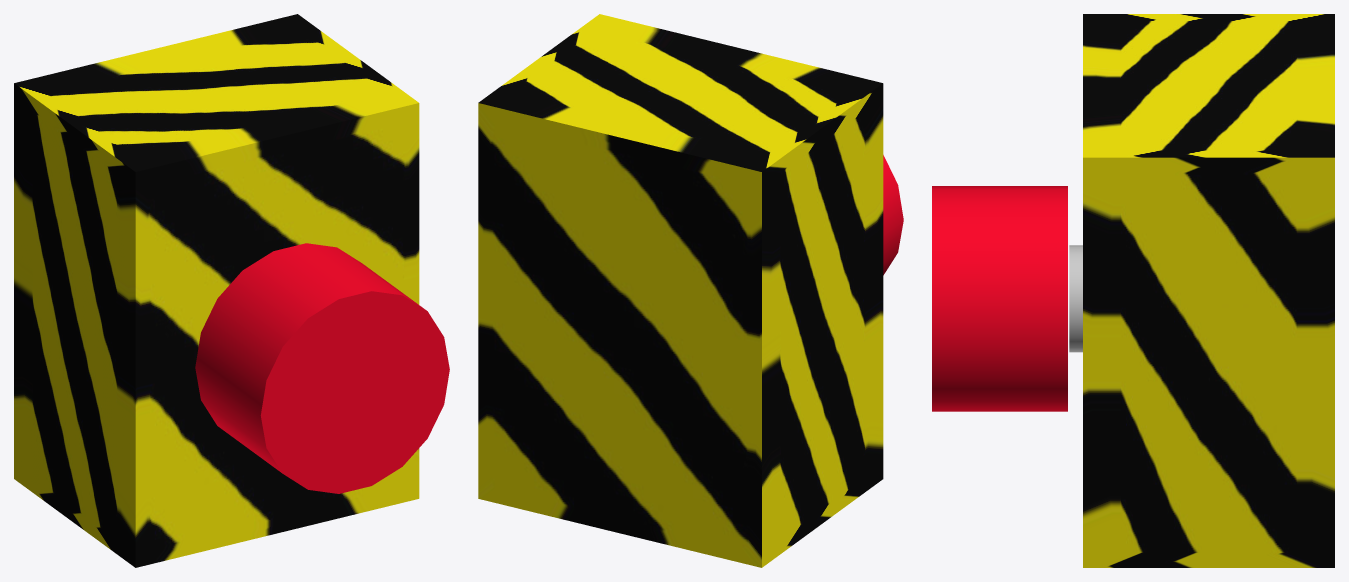
Rendered from Laser Switch.FBX.
The picture shows the model from 3 angles, left to right: view 1: azimuth 30°, elevation 25°; view 2: azimuth 150°, elevation 25°; view 3: azimuth 270°, elevation 25°; orthographic projection. The views are drawn at different scales.
Visible parts, largest first — view 1: Cylinder002; view 2: Cylinder002; view 3: Cylinder002.
Part boxes in pixels (box(x1,y1,x2,y2)): Cylinder002: box(14, 14, 449, 567); Cylinder002: box(478, 14, 903, 567); Cylinder002: box(932, 14, 1334, 567).
Bounding box in the file's own units: 59.06 × 78.74 × 70.06.
